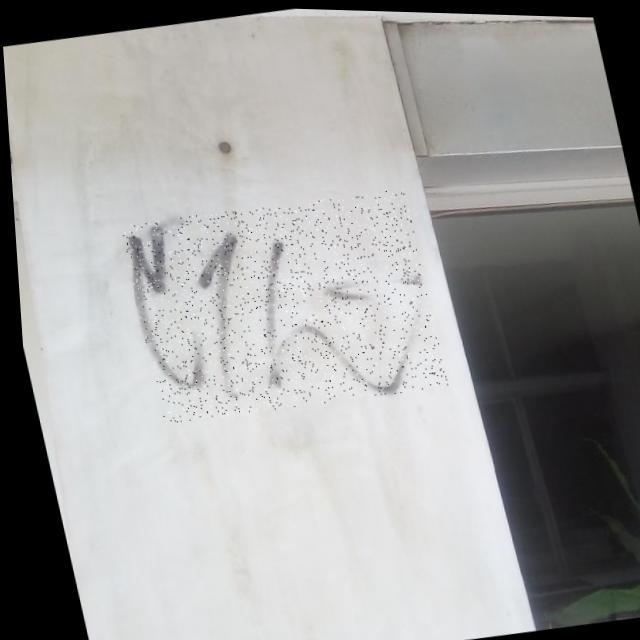-: (114, 180, 446, 430)
